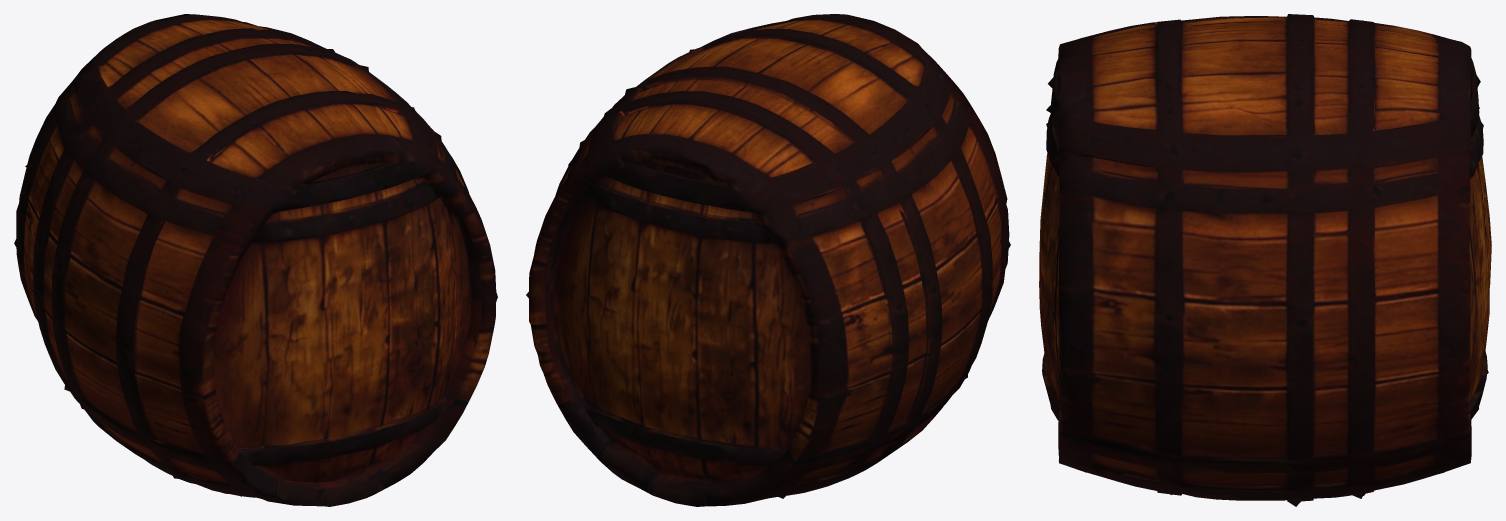
Rendered from barrel_textured.glb.
The picture shows the model from 3 angles, left to right: view 1: azimuth 30°, elevation 25°; view 2: azimuth 150°, elevation 25°; view 3: azimuth 270°, elevation 25°; orthographic projection. The views are drawn at different scales.
Visible parts, largest first — view 1: temp_mesh.ply; view 2: temp_mesh.ply; view 3: temp_mesh.ply.
Boxes of the visible parts, box(x1,y1,x2,y2) form: temp_mesh.ply: box(14, 14, 497, 506); temp_mesh.ply: box(526, 14, 1010, 506); temp_mesh.ply: box(1039, 14, 1491, 506).
Bounding box in the file's own units: 1.93 × 1.99 × 1.86.
1 material, 1 textured.
